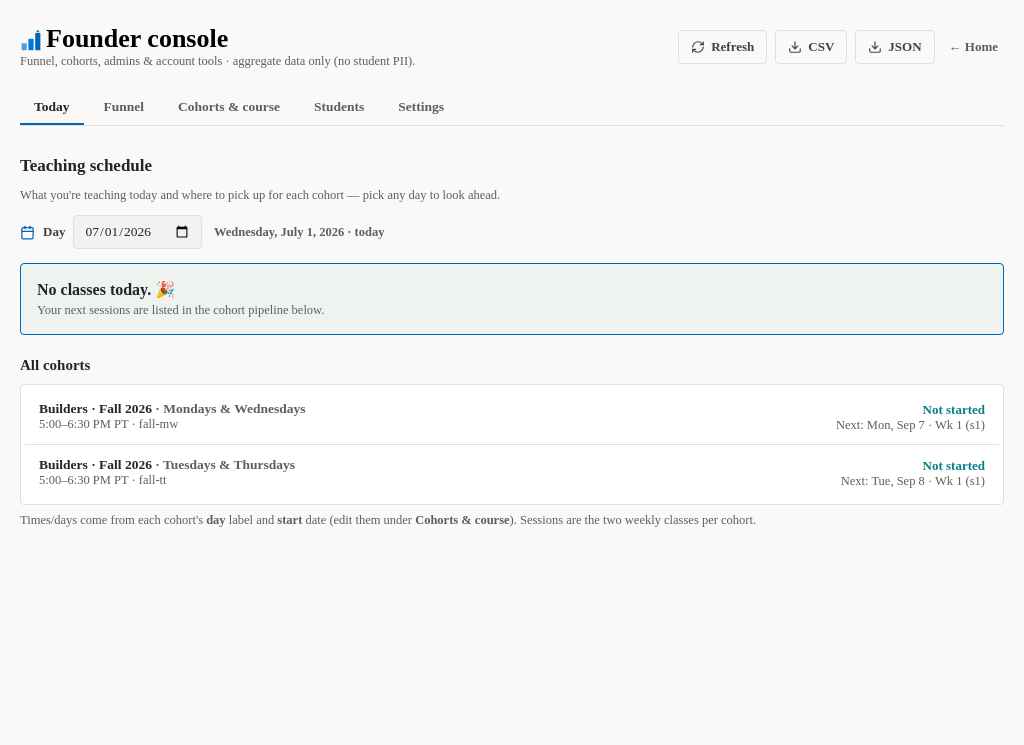
FounderDashboard (account-gated) › renders the funnel scaffold + cohort editor for a founder session
Click the button "Funnel". click: coordinates (124, 106)
box: [104,99,144,114]
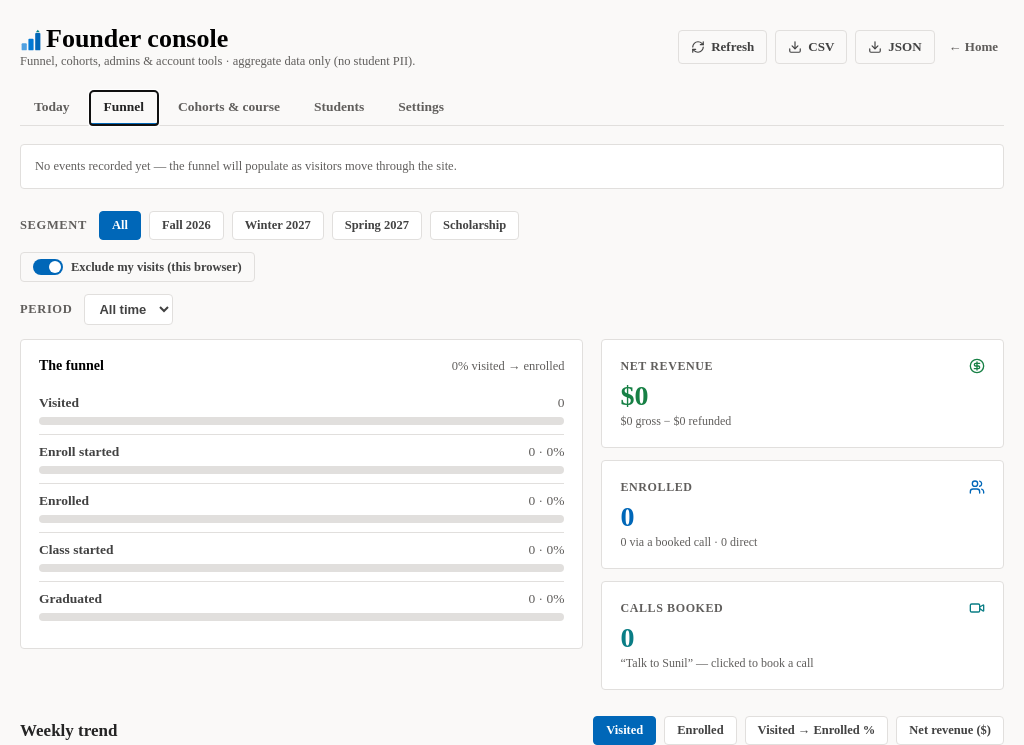
Expected: the text "Segment" is shown, [20,218,87,233]
# Cohorts & course tab: the cohort editor + recordings + homework.
Click the button "Cohorts & course". click: coordinates (229, 106)
box: [178,99,280,114]
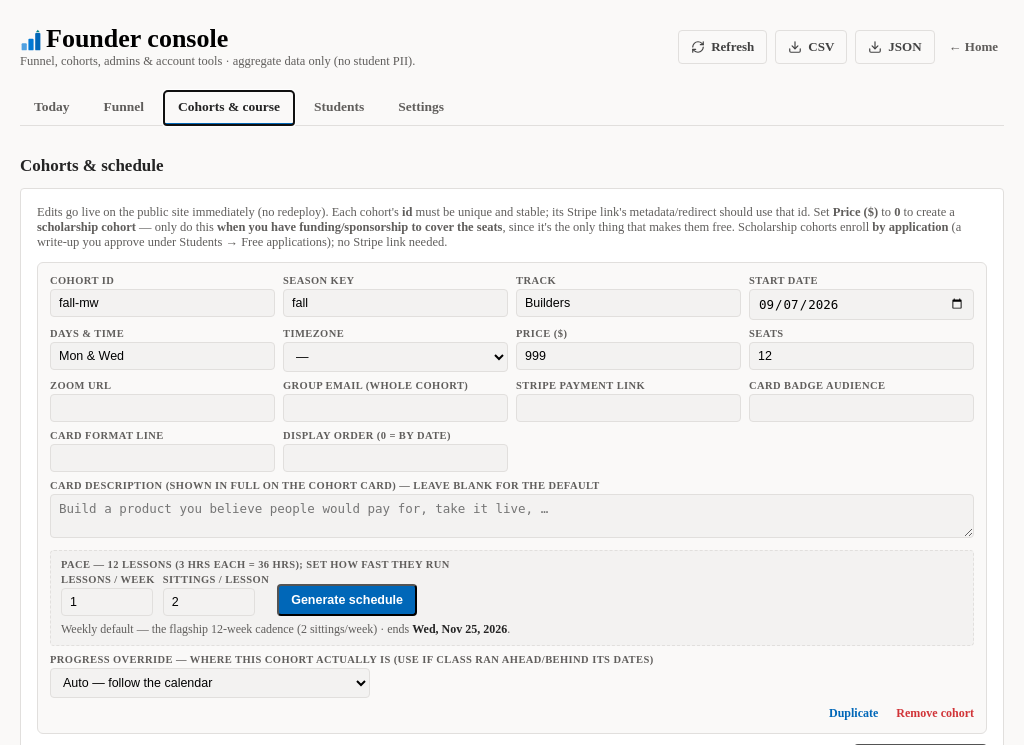
Expected: the field showing "fall-mw" is shown, [50,289,275,317]
# Students tab: partner enrollments / certificates / build plans / reset.
Click the button "Students". click: coordinates (339, 106)
box: [314,99,364,114]
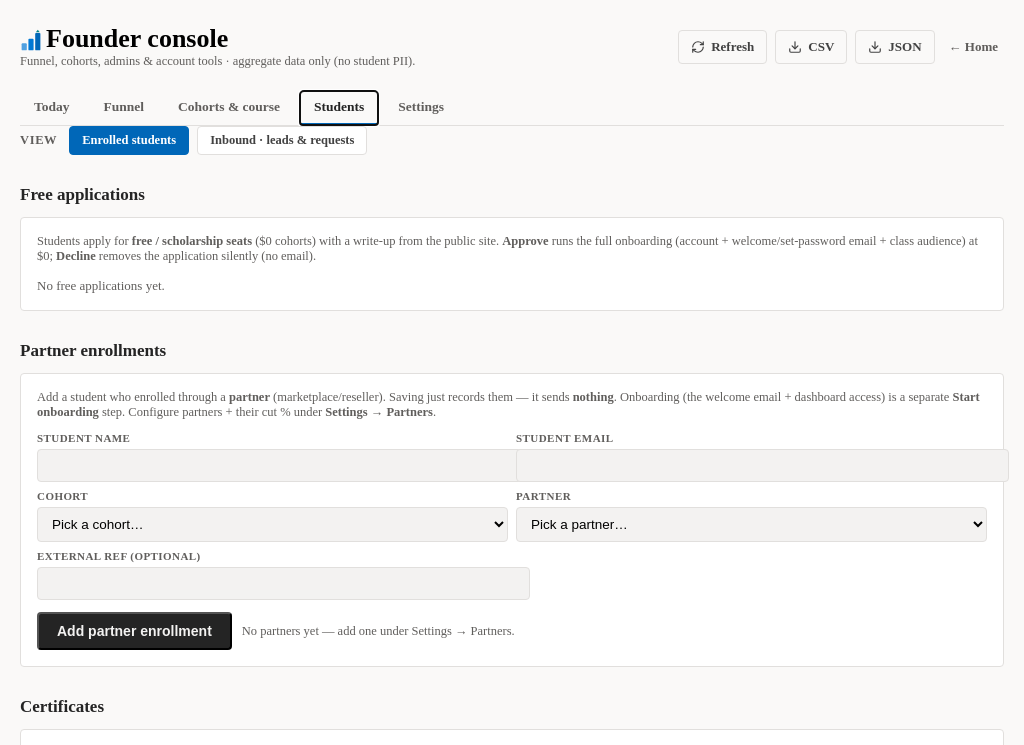
Expected: the heading "Partner enrollments" is shown, [20,341,166,360]
Expected: the button "Add partner enrollment" is shown, [37,612,232,650]
